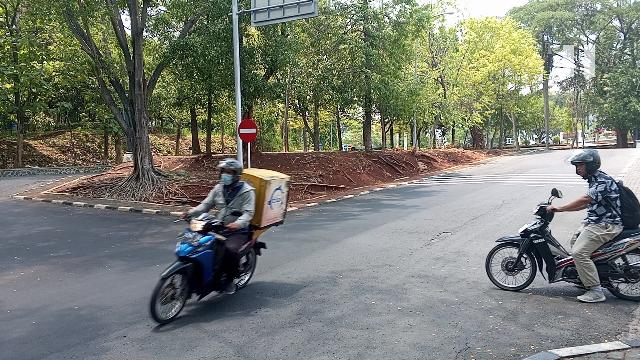helm: (566, 150, 603, 176), (216, 159, 244, 187)
motor: (488, 202, 640, 302), (151, 214, 267, 325)
